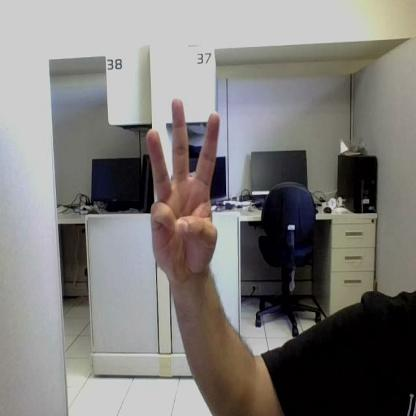W: (148, 98, 219, 275)
